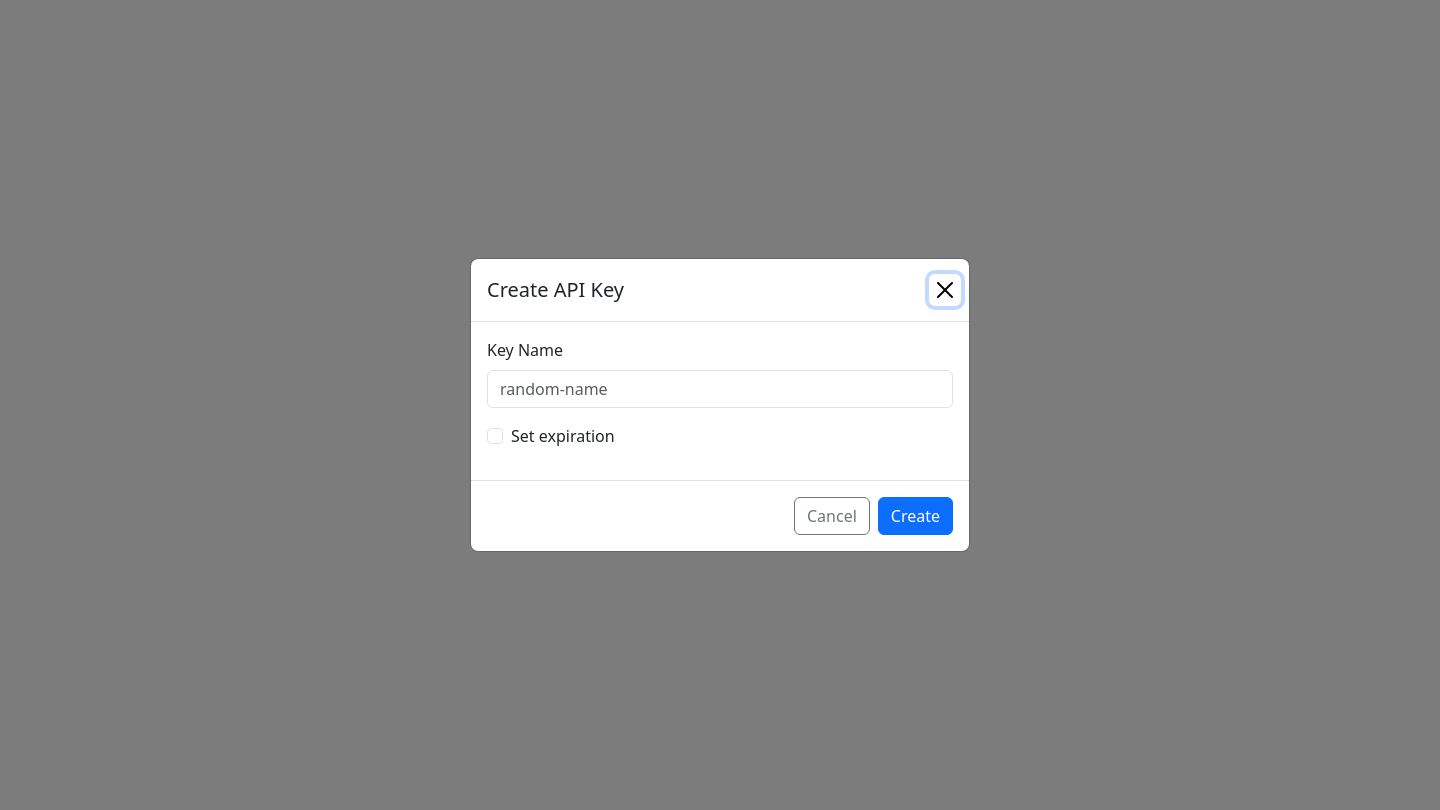
Test case: CreateAPIKeyModal › hides expiry field when Set expiration is unchecked
Click the checkbox labelled "Set expiration": (495, 436) [487,428,503,444]
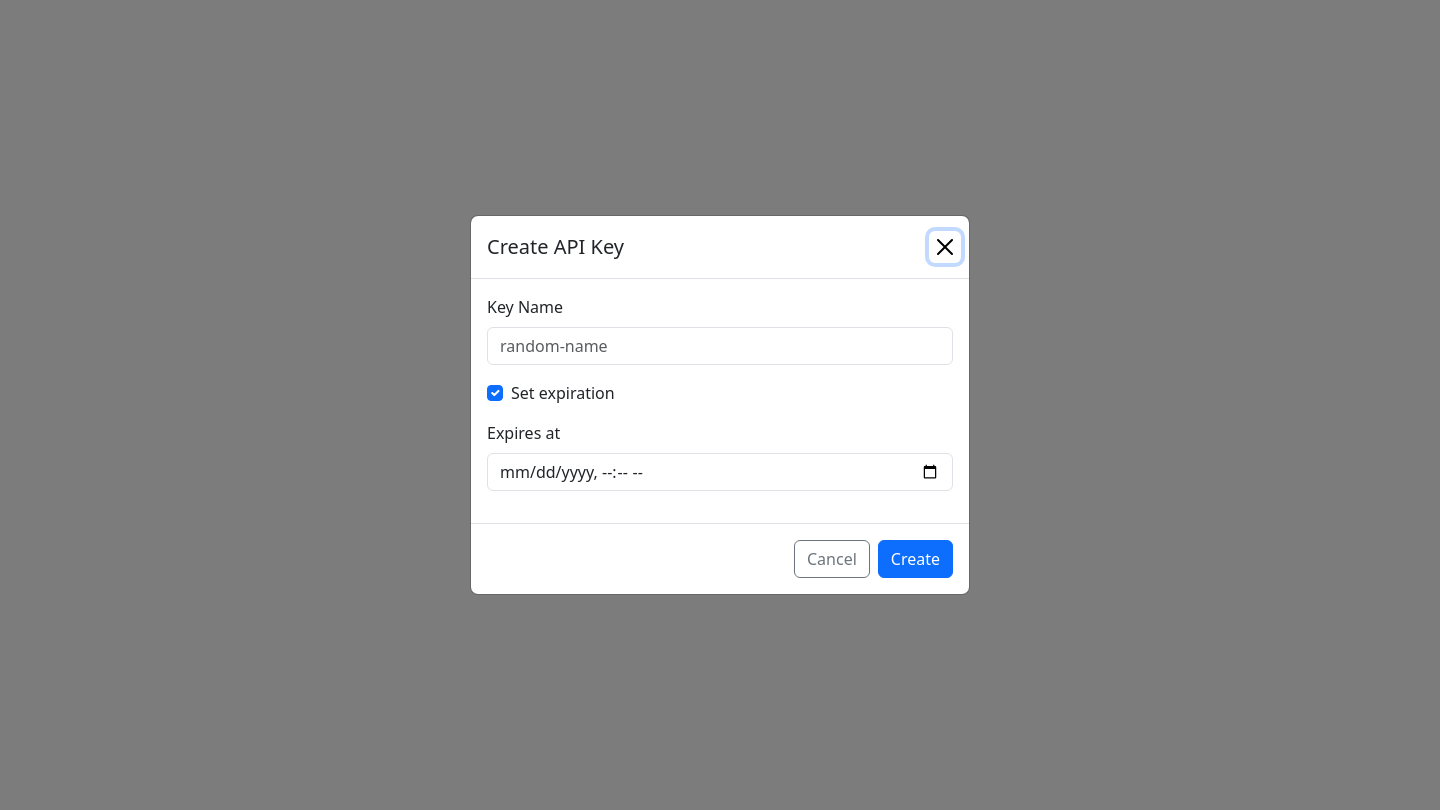
Check: the field labelled "Expires at" is shown, box [487,453,953,491]
Click the checkbox labelled "Set expiration": (495, 393) [487,385,503,401]
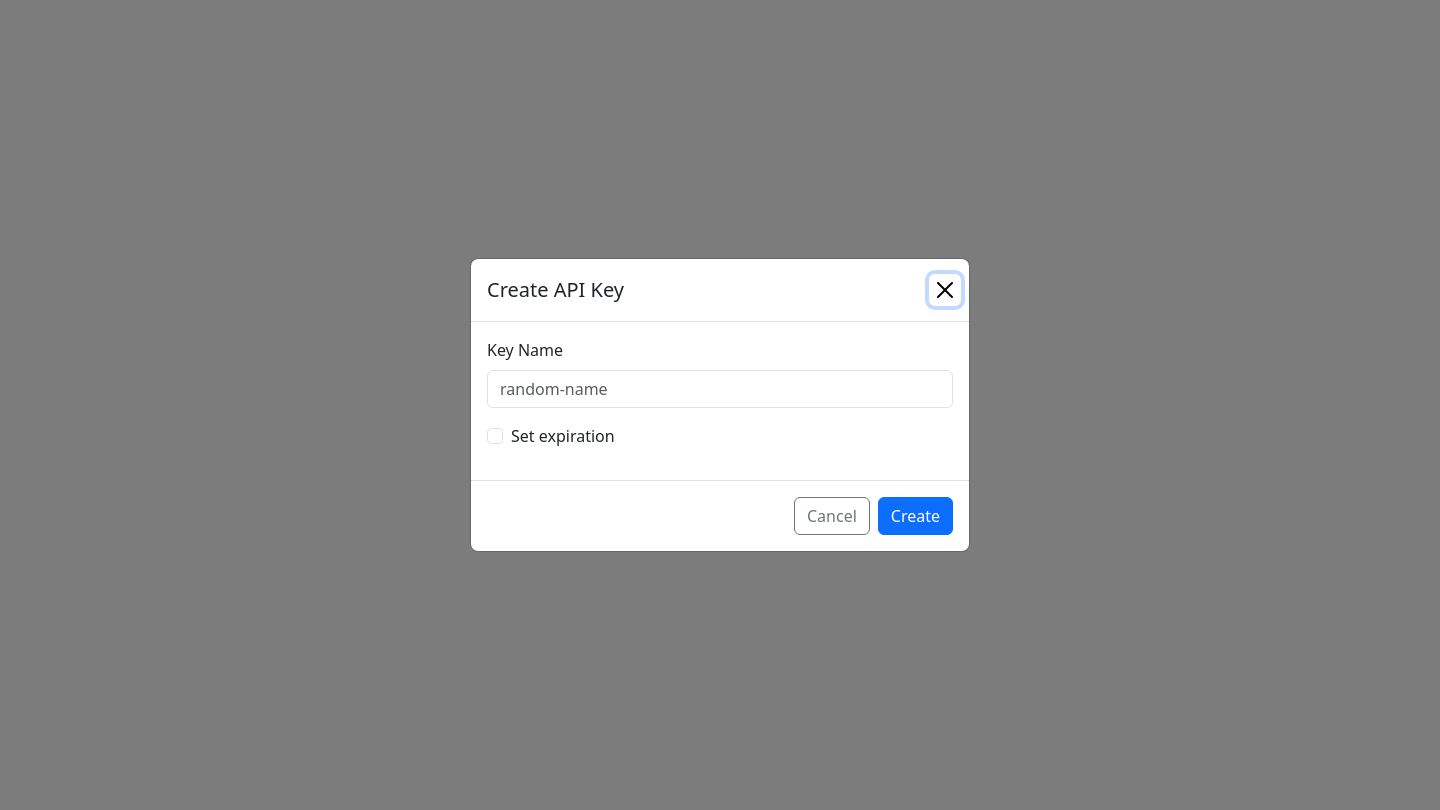
Check: the label labelled "Expires at" is gone
